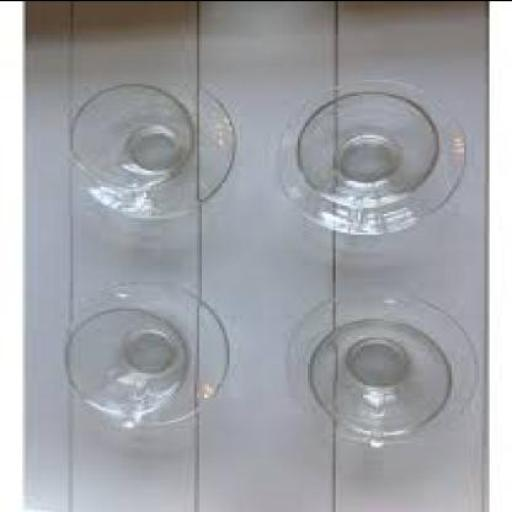glass: (272, 72, 462, 232), (285, 287, 472, 444), (54, 280, 224, 426), (65, 74, 233, 215), (308, 318, 449, 438), (295, 88, 431, 206), (63, 304, 189, 422), (71, 82, 189, 188)
